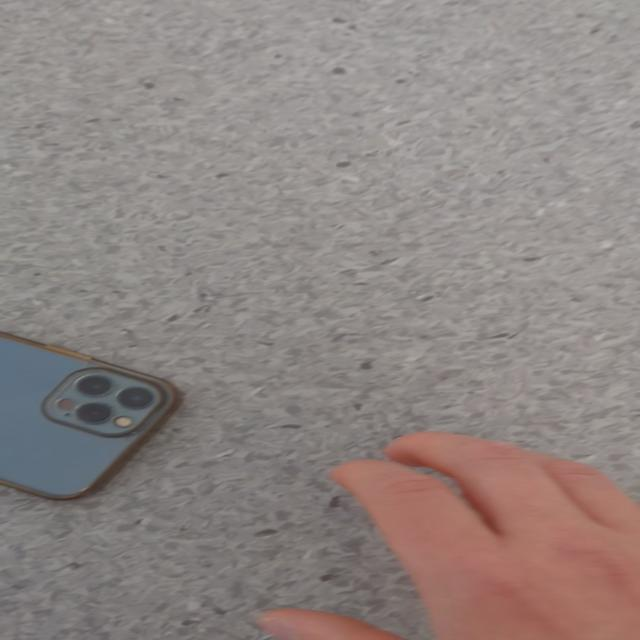phone: (0, 330, 178, 500)
